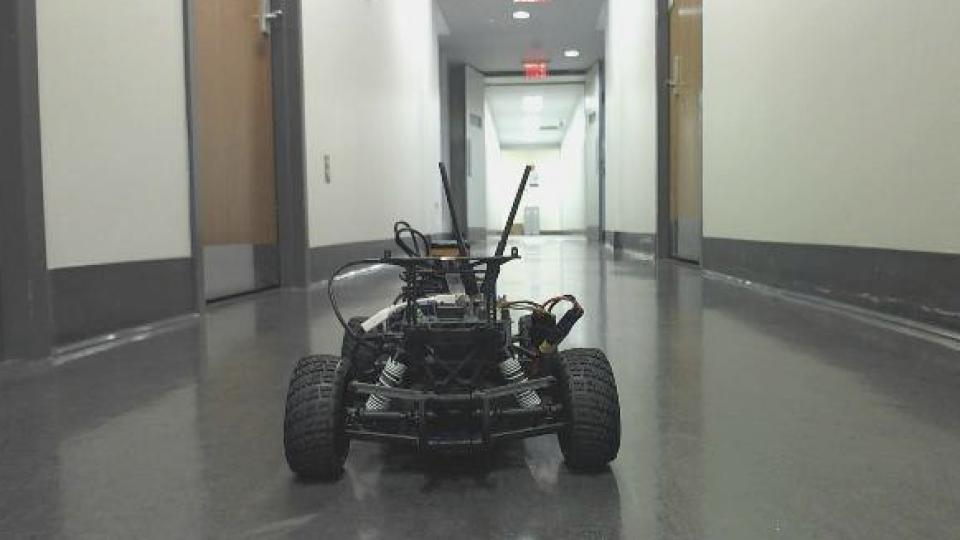car: (279, 159, 623, 484)
